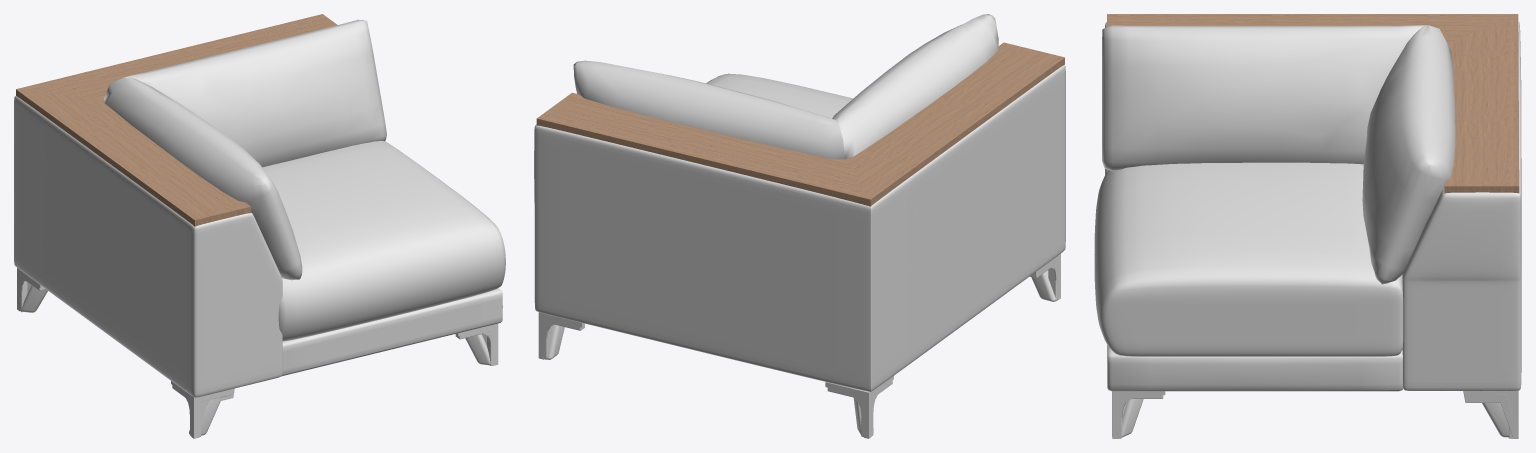
Rendered from Melbourne_roh_L.glb.
3 renders of one model, left to right at view 1: azimuth 30°, elevation 25°; view 2: azimuth 150°, elevation 25°; view 3: azimuth 270°, elevation 25°, orthographic. The views are drawn at different scales.
Visible parts, largest first — view 1: body, backrest, seat, plane, legs_N1, legs_N9, legs_N11; view 2: body, plane, backrest, seat, legs_N11, legs_N9, legs_N1; view 3: backrest, seat, body, plane, legs_N11, legs_N9, legs_N21.
Boxes of the visible parts, <box> form: body: <box>14,96,502,397</box>; backrest: <box>104,19,386,280</box>; seat: <box>263,141,505,341</box>; plane: <box>16,14,337,226</box>; legs_N1: <box>20,281,497,437</box>; legs_N9: <box>20,285,490,435</box>; legs_N11: <box>17,268,498,438</box>; body: <box>534,65,1065,391</box>; plane: <box>536,42,1064,206</box>; backrest: <box>573,14,998,159</box>; seat: <box>706,73,852,118</box>; legs_N11: <box>538,253,1060,438</box>; legs_N9: <box>546,270,1056,434</box>; legs_N1: <box>544,267,1057,436</box>; backrest: <box>1102,25,1455,284</box>; seat: <box>1094,162,1403,356</box>; body: <box>1105,21,1521,391</box>; plane: <box>1107,14,1519,193</box>; legs_N11: <box>1112,390,1518,438</box>; legs_N9: <box>1120,399,1508,437</box>; legs_N21: <box>1122,391,1517,438</box>.
Bounding box in the file's own units: 1.01 × 0.754 × 1.03.
Materials: 8 (1 with a texture image).
